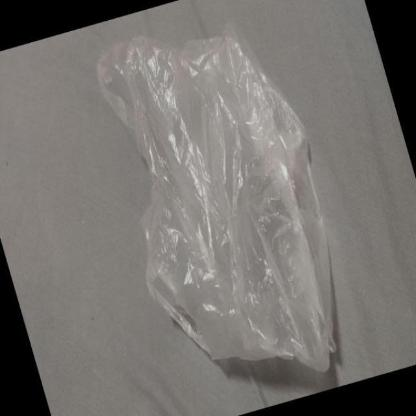Plastic Bag: (93, 21, 339, 372)
